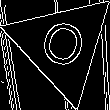O_S: (35, 15, 90, 76)
